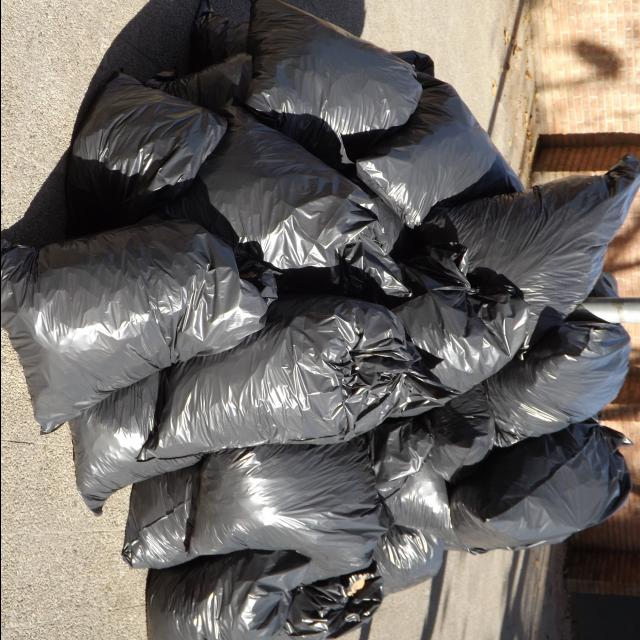plastik: (0, 221, 276, 432), (138, 295, 457, 461), (157, 108, 410, 305), (420, 157, 640, 335), (187, 437, 391, 583), (244, 0, 421, 166), (354, 73, 524, 227), (64, 73, 225, 235), (448, 418, 631, 550), (366, 384, 494, 551), (393, 245, 530, 393), (69, 372, 200, 515), (483, 321, 629, 447), (145, 550, 309, 640), (274, 563, 383, 640), (121, 465, 199, 569)
